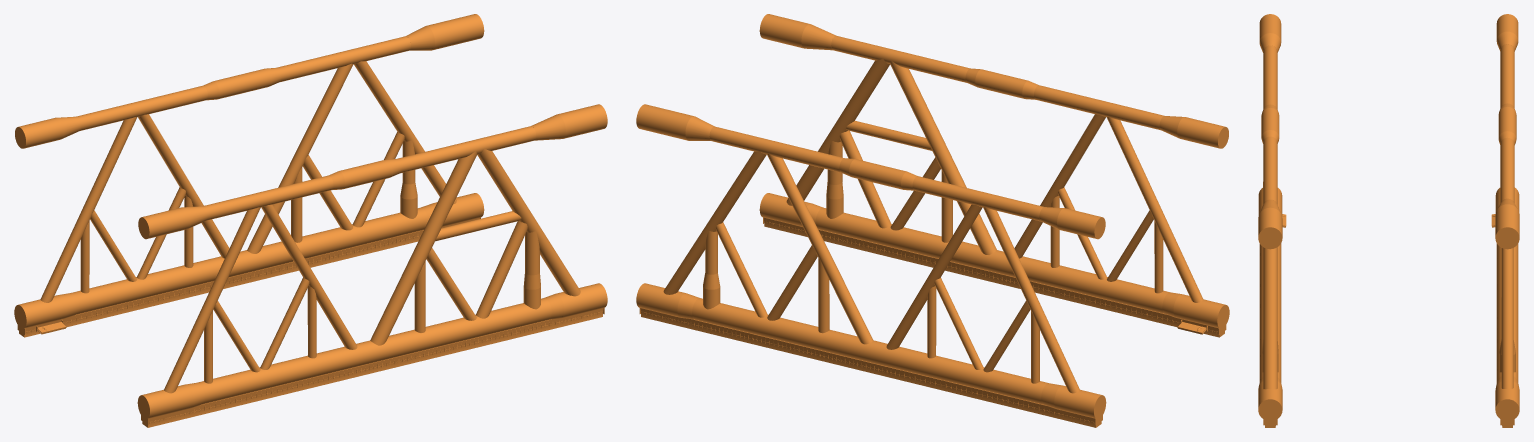
File: cradle.glb
3 views of the same model, side by side, from view 1: azimuth 30°, elevation 25°; view 2: azimuth 150°, elevation 25°; view 3: azimuth 270°, elevation 25° (orthographic). The views are drawn at different scales.
Parts seen in each view (by area): view 1: cradle; view 2: cradle; view 3: cradle.
Boxes of the visible parts, x1,y1,x2,y2 form: cradle: [14, 14, 607, 427]; cradle: [636, 14, 1229, 427]; cradle: [1258, 14, 1519, 427].
Size of the model in its own units: 42.79 by 18.72 by 22.05.
